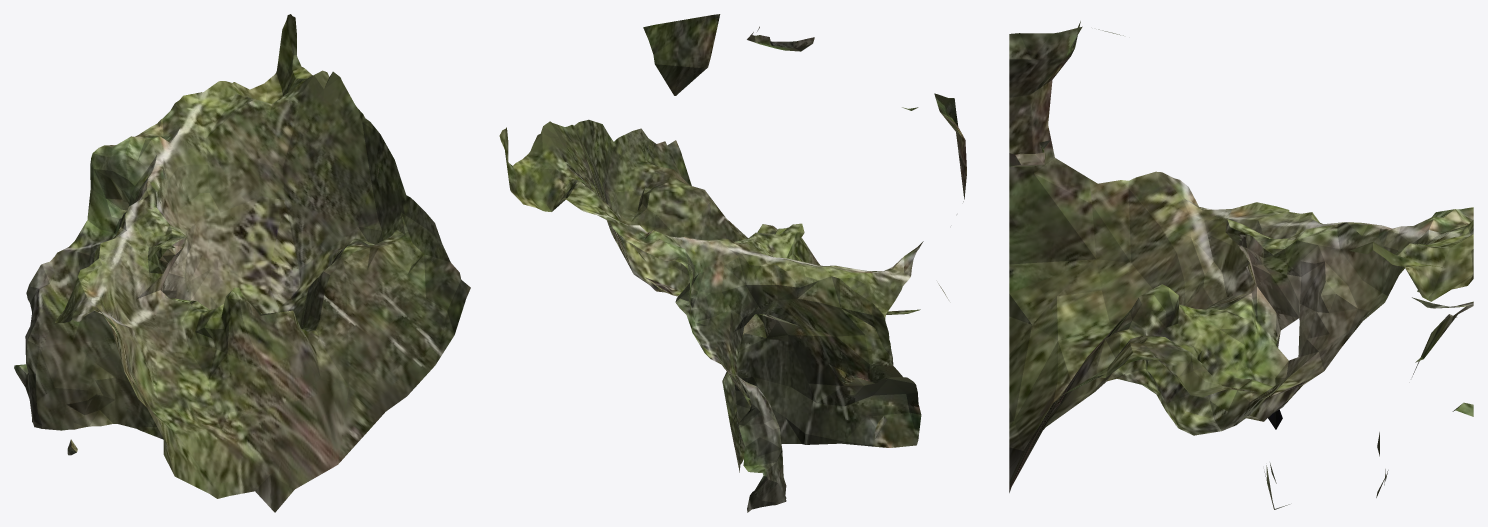
3 renders of one model, left to right at view 1: azimuth 30°, elevation 25°; view 2: azimuth 150°, elevation 25°; view 3: azimuth 270°, elevation 25°, orthographic. The views are drawn at different scales.
Size of the model in its own units: 2.95 by 2.95 by 2.95.
5 materials, 5 textured.
